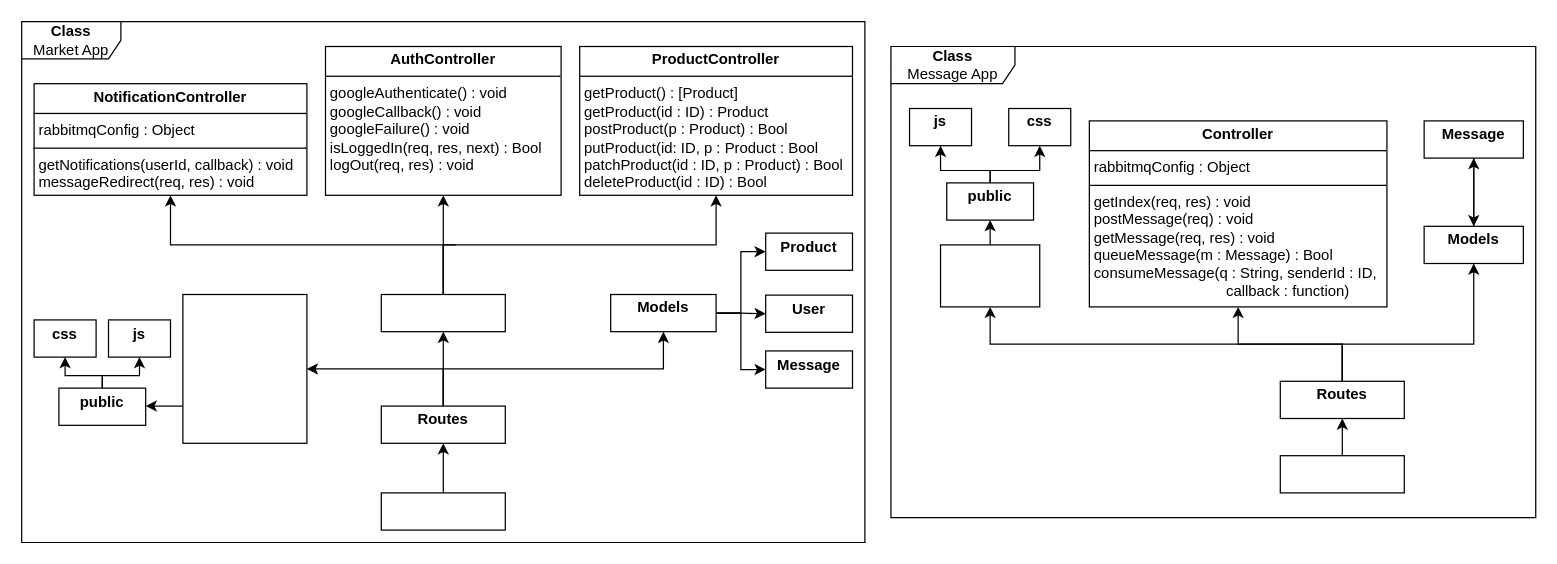
Some shapes in this 1557 by 564 pixel diagram are drawn without their labels. The shapes that lost their labels are listed below. From the top down, each one's centre as x and y in pixels, then its label:
At (x=989, y=275): "Views index".
At (x=442, y=312): "Controllers".
At (x=244, y=368): "Views market details login sell user contact".
At (x=1341, y=473): "Message App".
At (x=442, y=511): "Market App".
